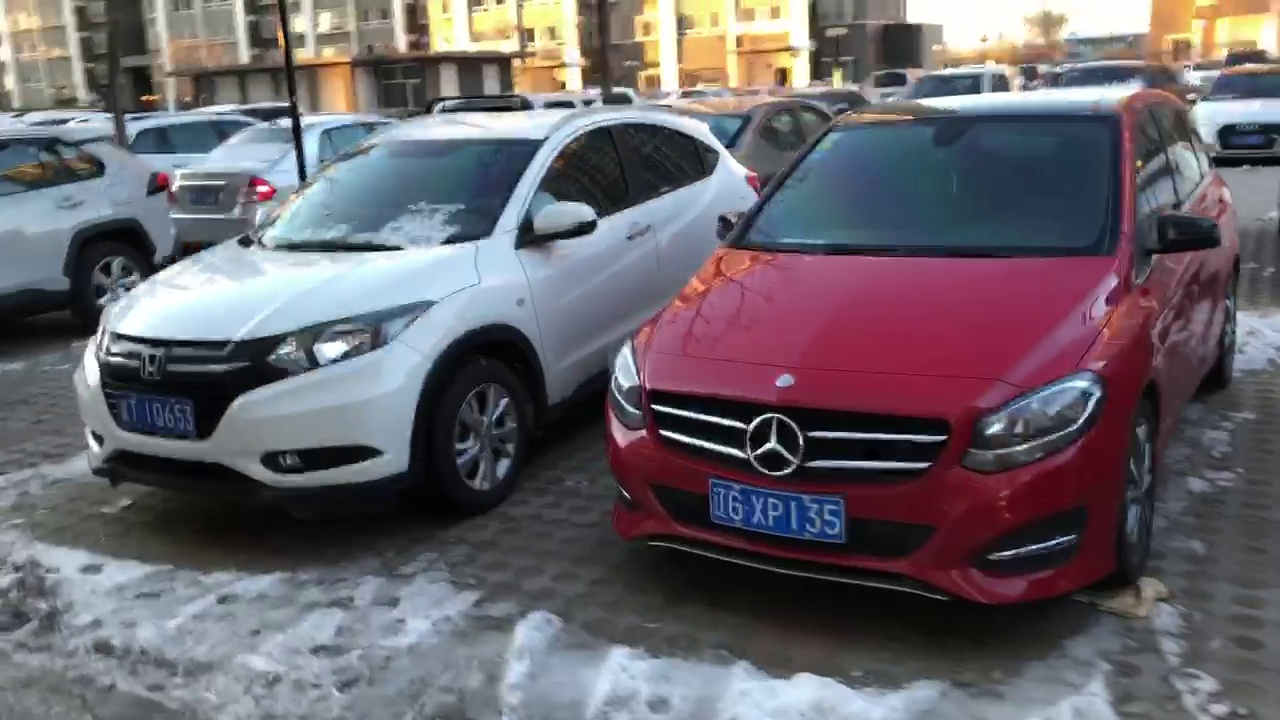plate: (704, 488, 853, 543), (115, 399, 204, 435)
